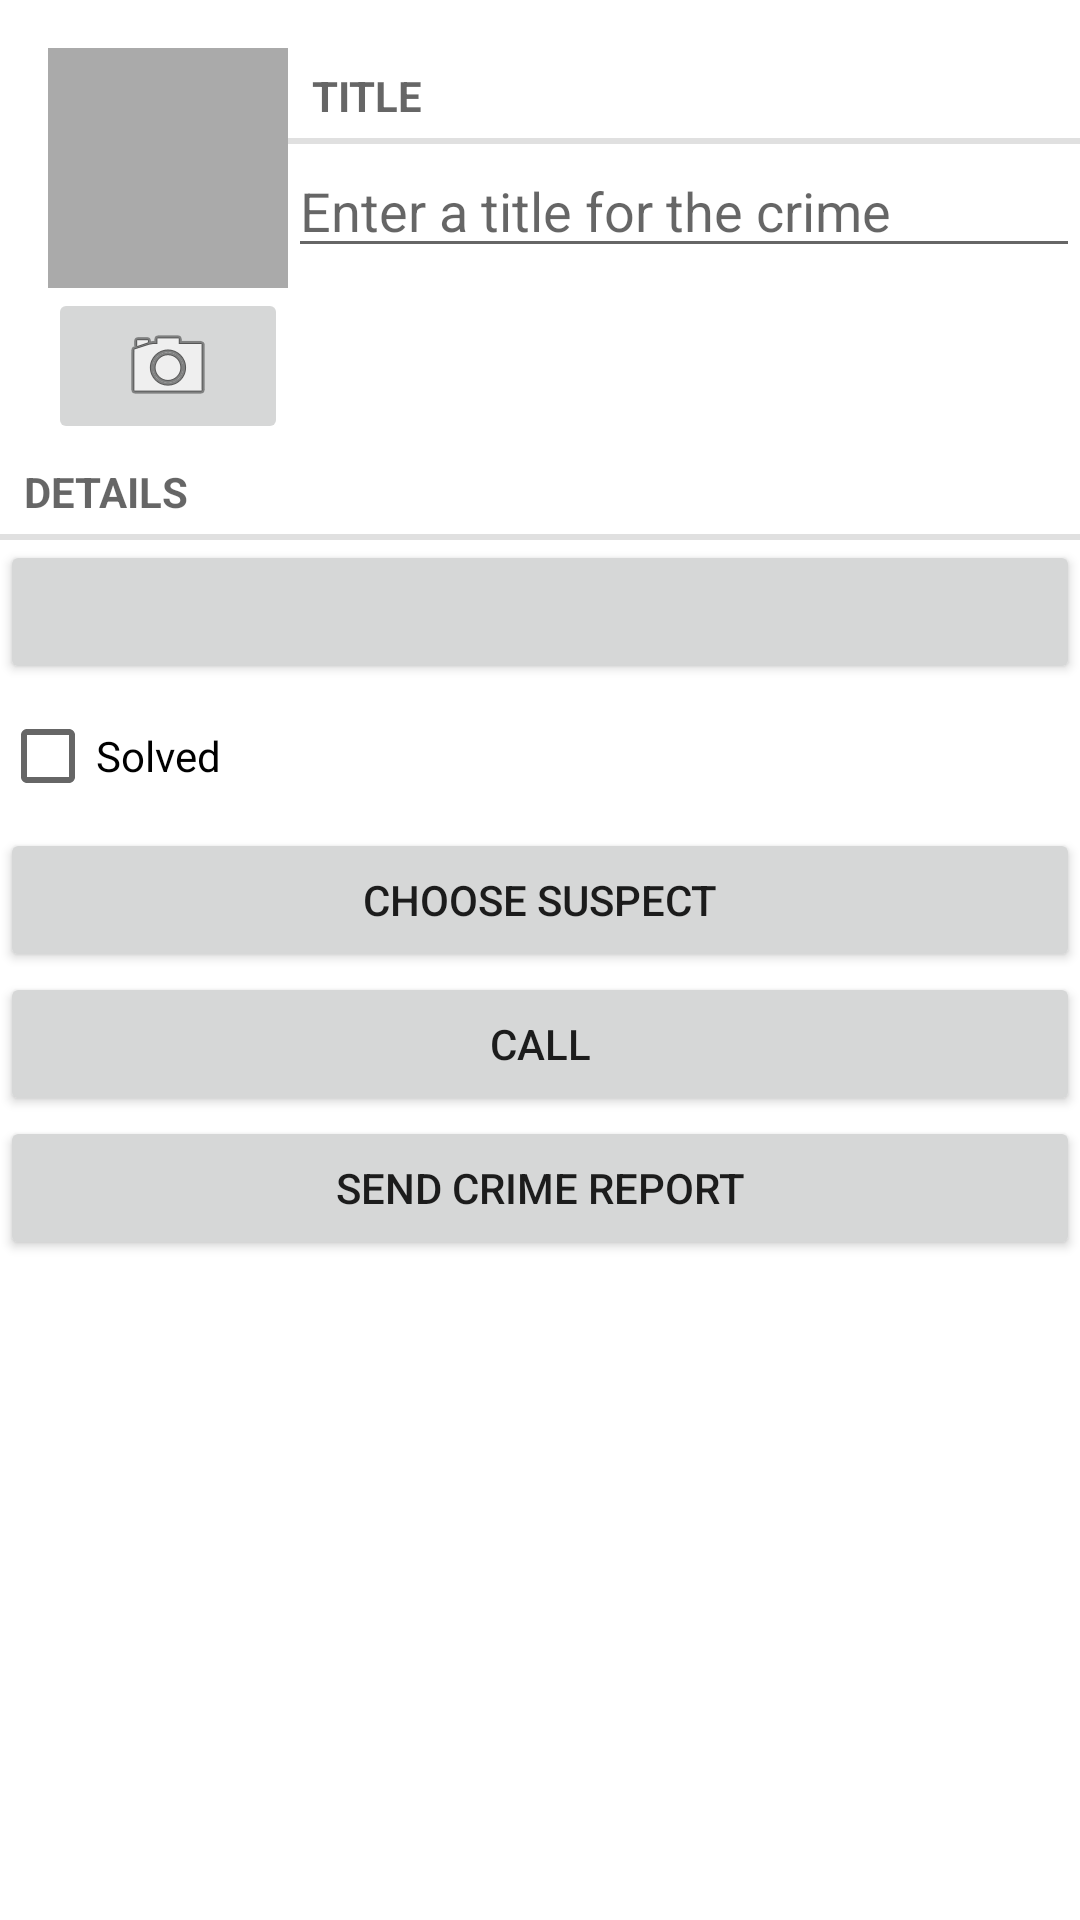

Icon bounding boxes for this 1080 × 1920 phone screenshot, format (x1, y1, x2, y2):
camera: (60, 306, 276, 426)
